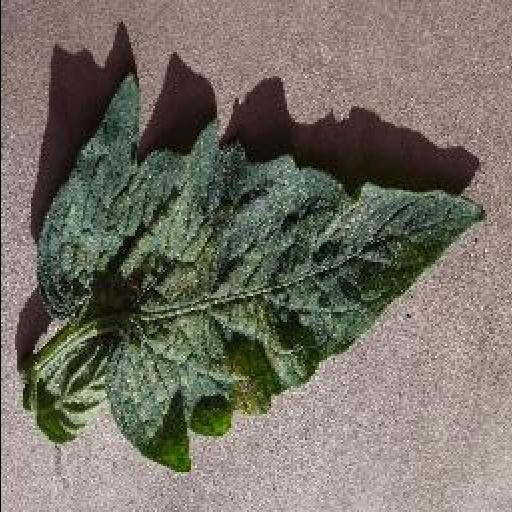disease_tomato: (36, 70, 490, 476)
